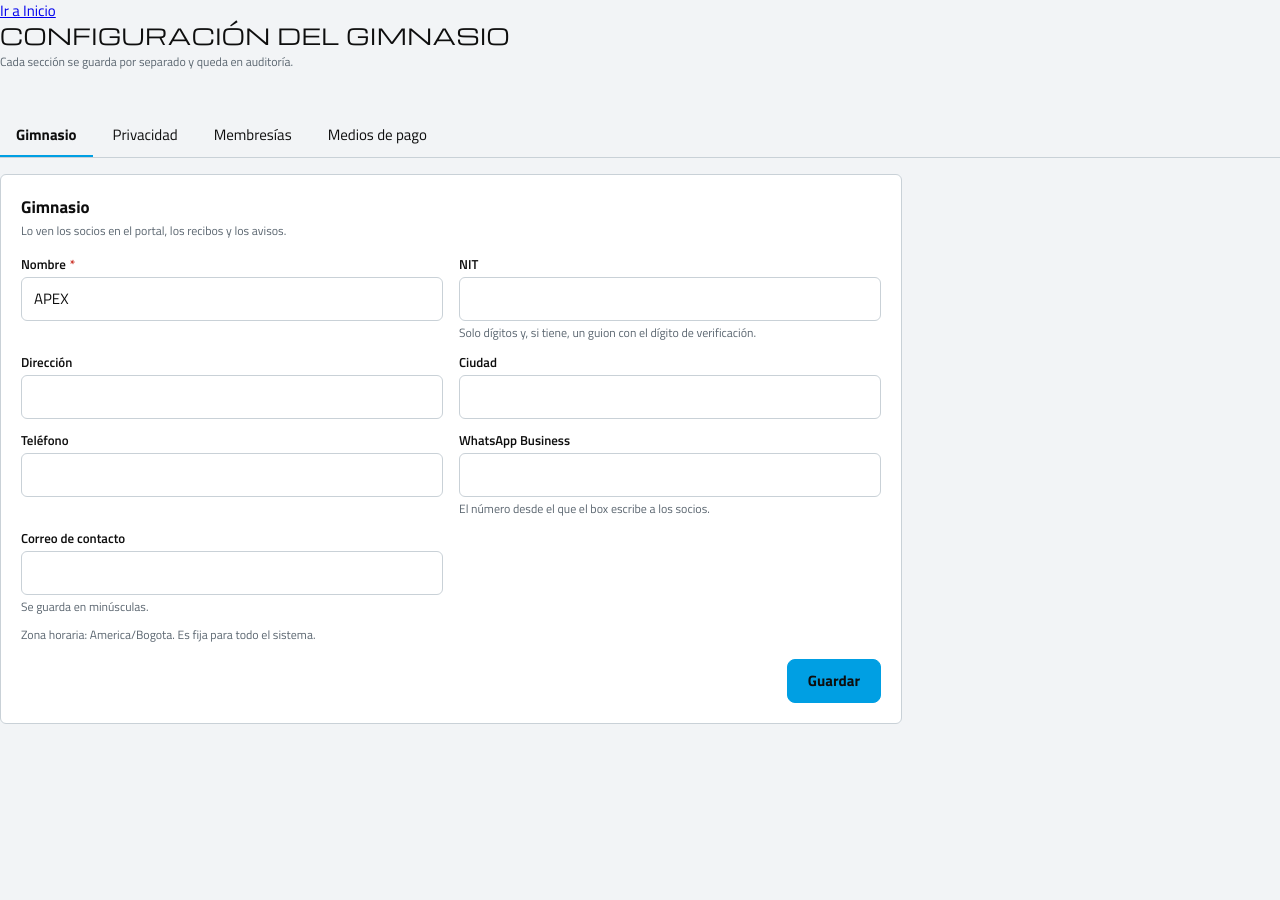
ConfigPage › con cambios sin guardar, salir de la pantalla también pide confirmación
This screenshot has width=1280, height=900.
Type " Norte" into the field labelled "Nombre*" at {"x": 232, "y": 299}, box [21, 277, 443, 321]
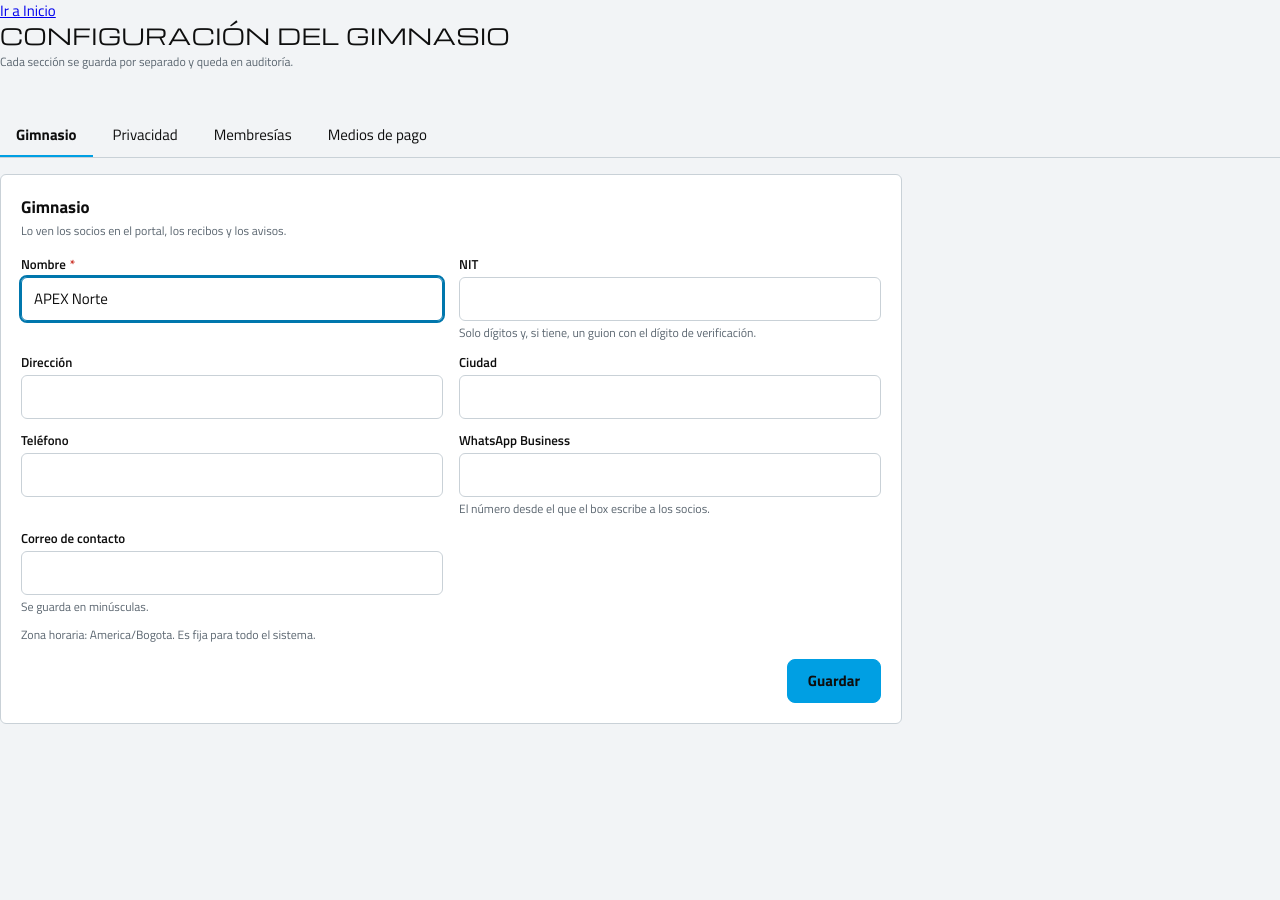
Click the link "Ir a Inicio" at {"x": 28, "y": 10}, box [0, 0, 56, 22]
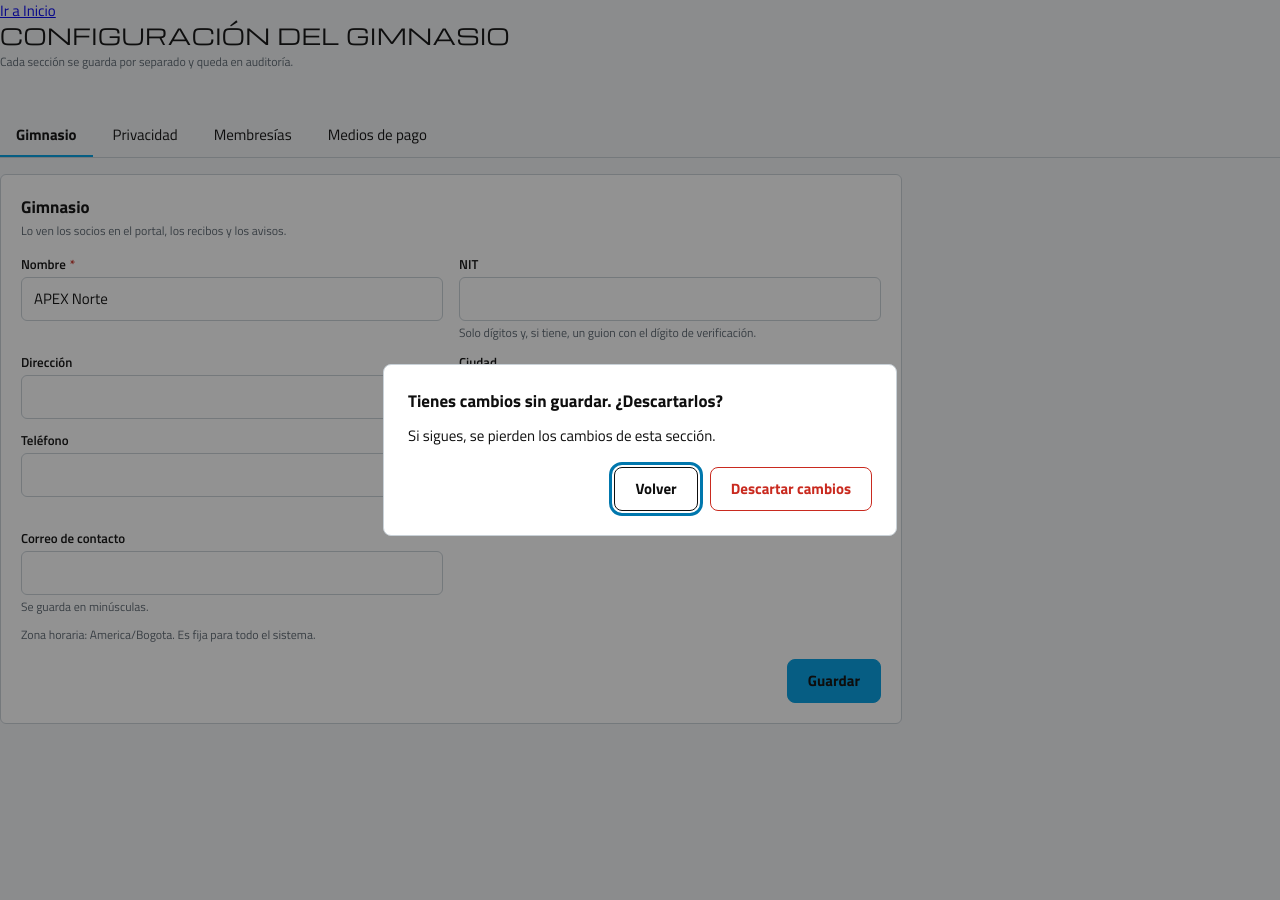
Click the button "Descartar cambios" at {"x": 791, "y": 489}, box [710, 467, 872, 511]
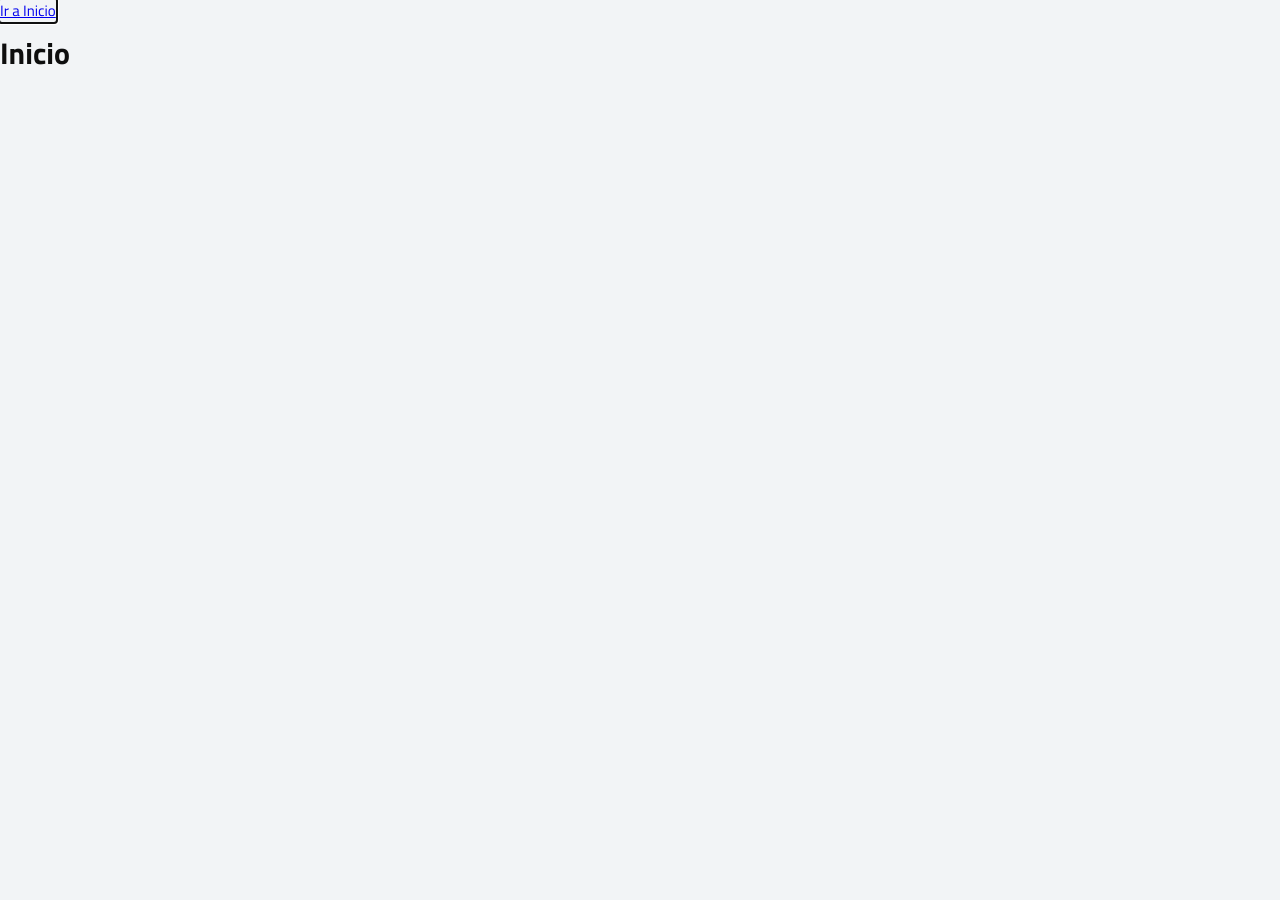
Check: the heading "Inicio" is shown, box [0, 30, 70, 76]
